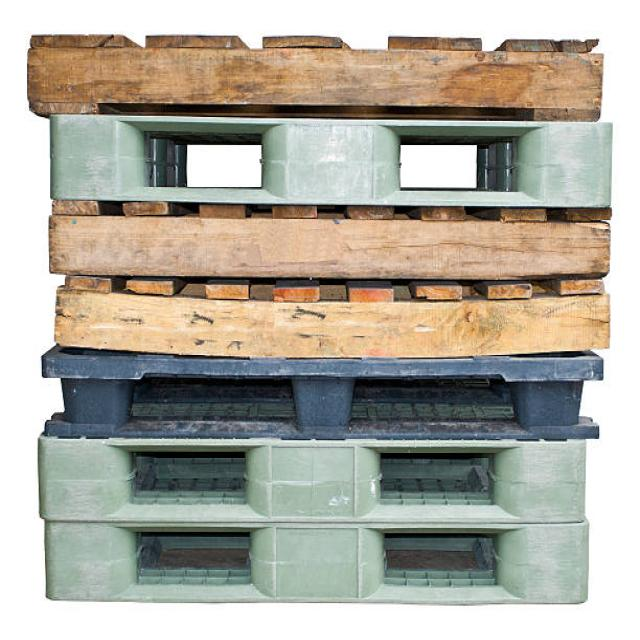Wooden-Pallets: (40, 197, 622, 295), (21, 28, 611, 123), (35, 273, 614, 351)
